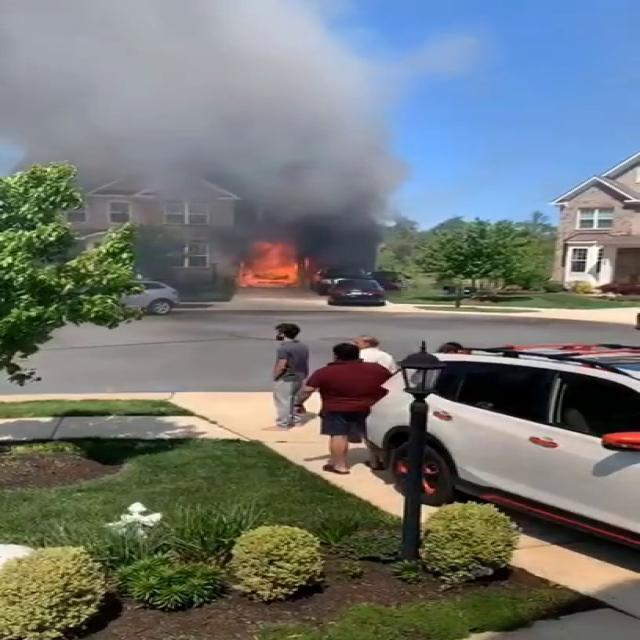Fire: (226, 234, 314, 294)
Smoke: (0, 0, 419, 269)
